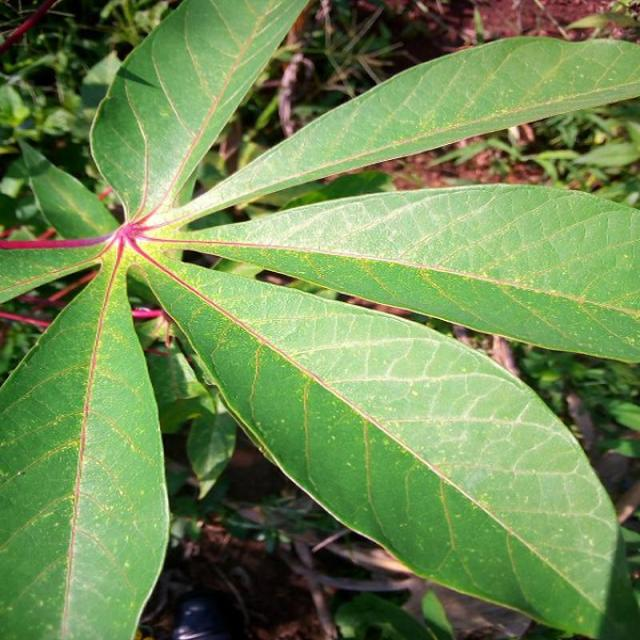cassava leaf: (0, 1, 638, 636), (128, 246, 638, 637), (170, 181, 640, 365), (0, 240, 170, 638)
